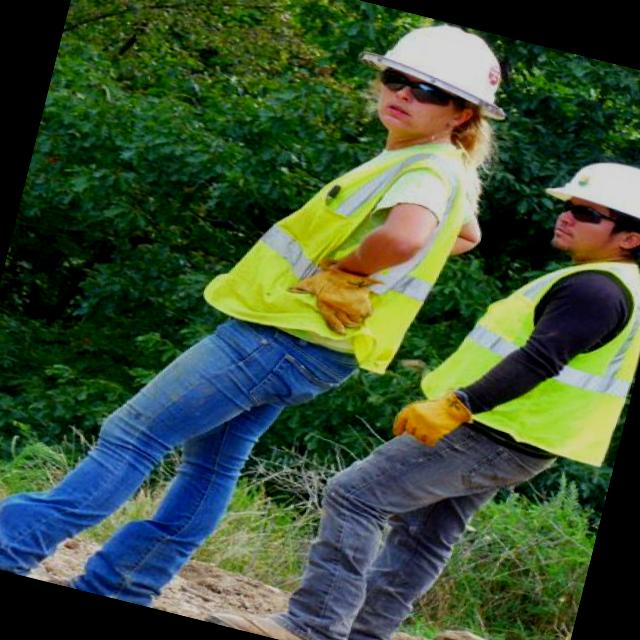helmet: (354, 4, 531, 124), (539, 142, 640, 255)
vest: (233, 108, 492, 398), (435, 229, 640, 488)
